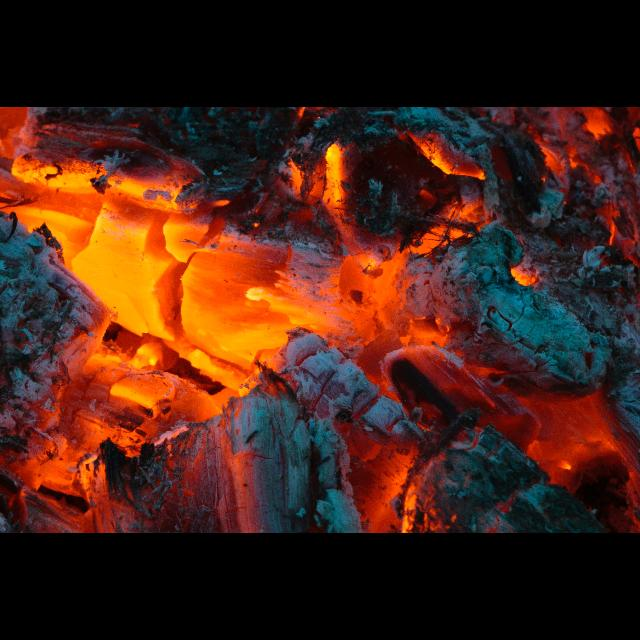fire: (8, 107, 640, 534)
